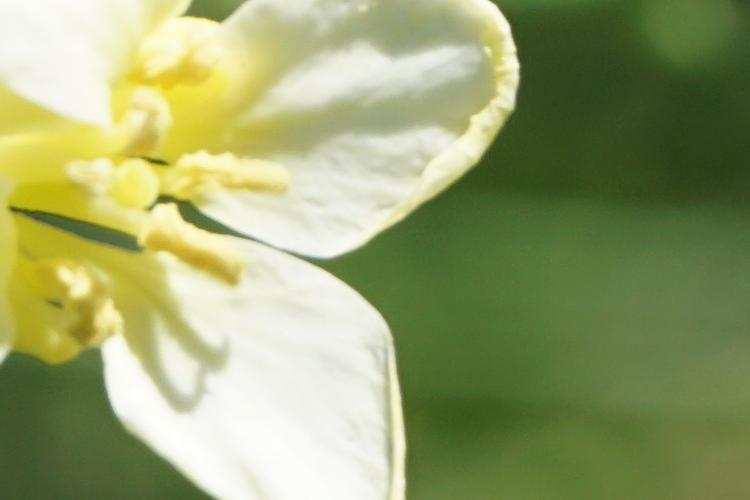white: (5, 5, 500, 492)
